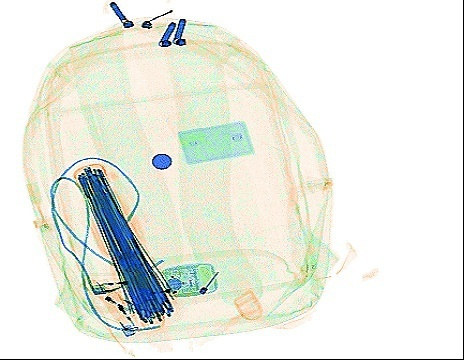lighter: (94, 282, 138, 338), (89, 275, 145, 294)
